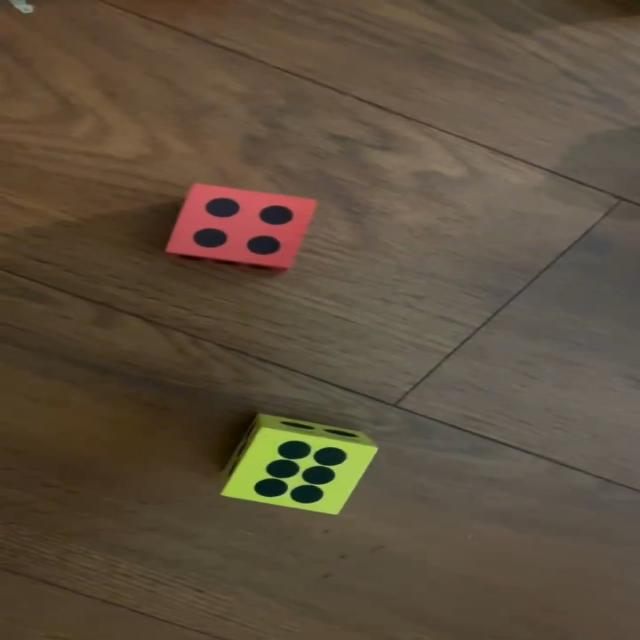red_block: (168, 182, 319, 274)
